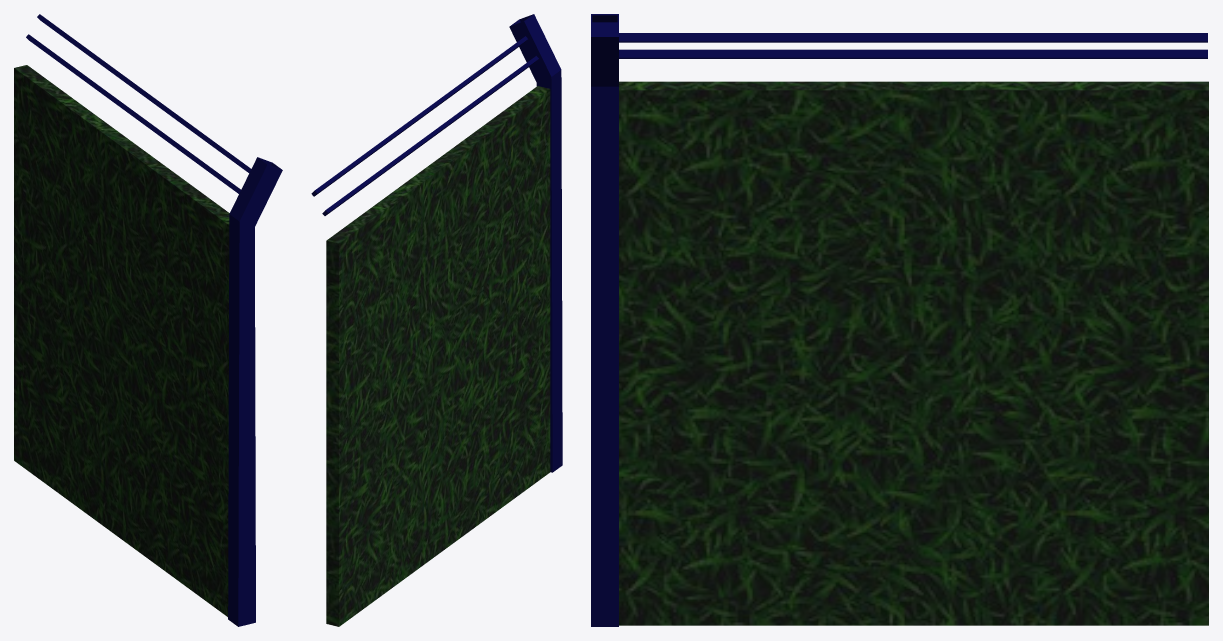
Rendered from FencePost.fbx.
The picture shows the model from 3 angles, left to right: view 1: azimuth 30°, elevation 25°; view 2: azimuth 150°, elevation 25°; view 3: azimuth 270°, elevation 25°; orthographic projection. The views are drawn at different scales.
Parts seen in each view (by area): view 1: Cube; view 2: Cube; view 3: Cube.
Boxes of the visible parts, x1=… form: Cube: x1=14, y1=14, x2=282, y2=626; Cube: x1=311, y1=14, x2=562, y2=626; Cube: x1=591, y1=14, x2=1208, y2=626.
Size of the model in its own units: 103 by 1011 by 912.
